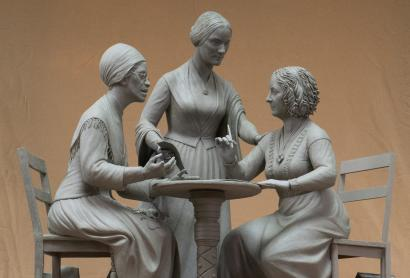person-like: (133, 6, 267, 259), (45, 39, 181, 277), (211, 63, 357, 277)
